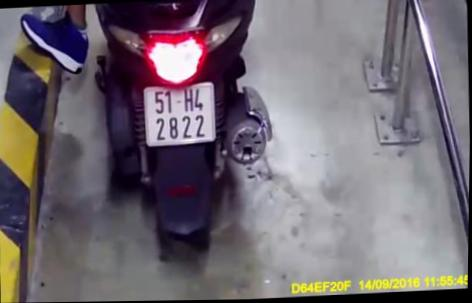LP: (142, 82, 219, 148)
